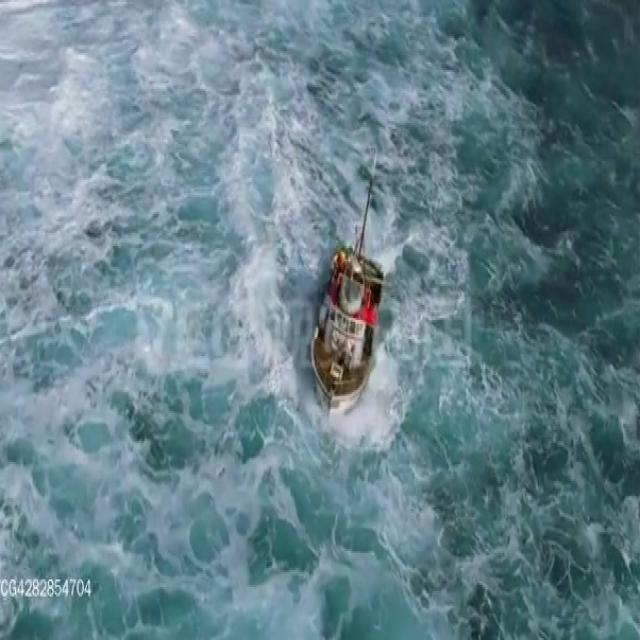houseboat: (312, 214, 386, 402)
